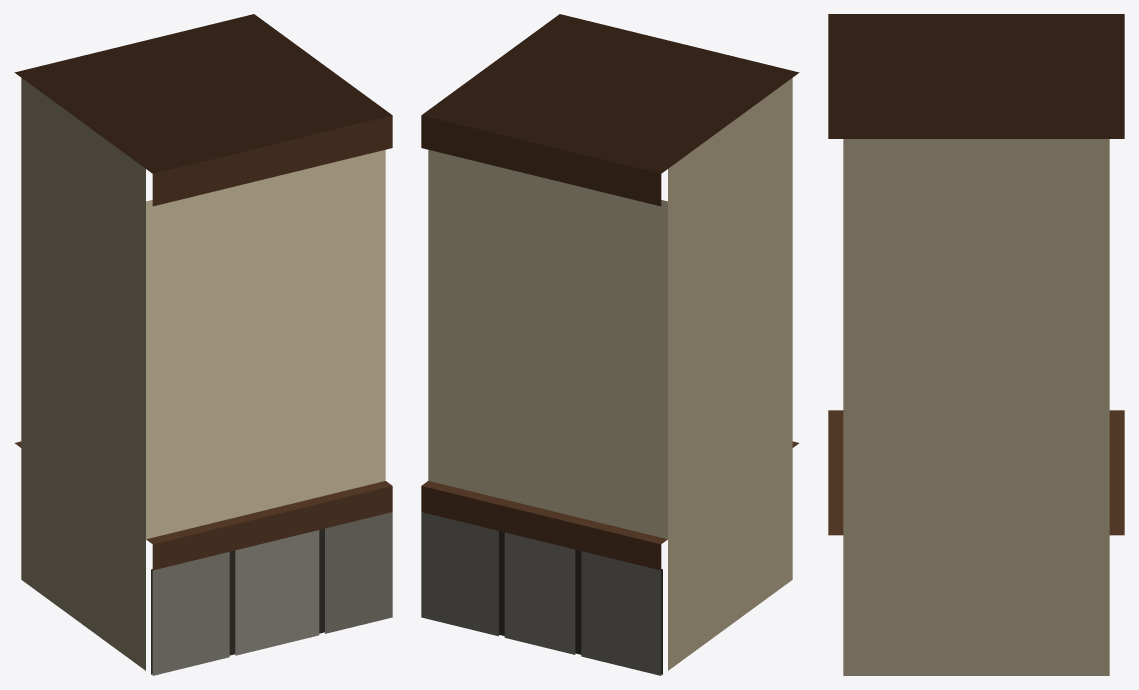
Rendered from tile_house_wall_12.glb.
The picture shows the model from 3 angles, left to right: view 1: azimuth 30°, elevation 25°; view 2: azimuth 150°, elevation 25°; view 3: azimuth 270°, elevation 25°; orthographic projection. The views are drawn at different scales.
Visible parts, largest first — view 1: tile_house_wall_12; view 2: tile_house_wall_12; view 3: tile_house_wall_12.
Boxes of the visible parts, x1,y1,x2,y2 form: tile_house_wall_12: (14,14,392,675); tile_house_wall_12: (421,14,799,675); tile_house_wall_12: (828,14,1124,675).
Bounding box in the file's own units: 1 × 2 × 1.
